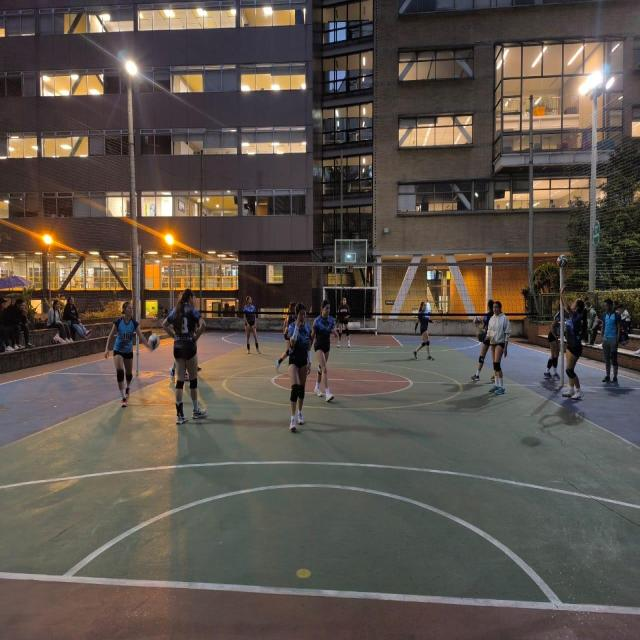volleyball: (148, 334, 160, 350), (556, 254, 568, 268), (476, 329, 486, 342), (473, 316, 481, 325)
